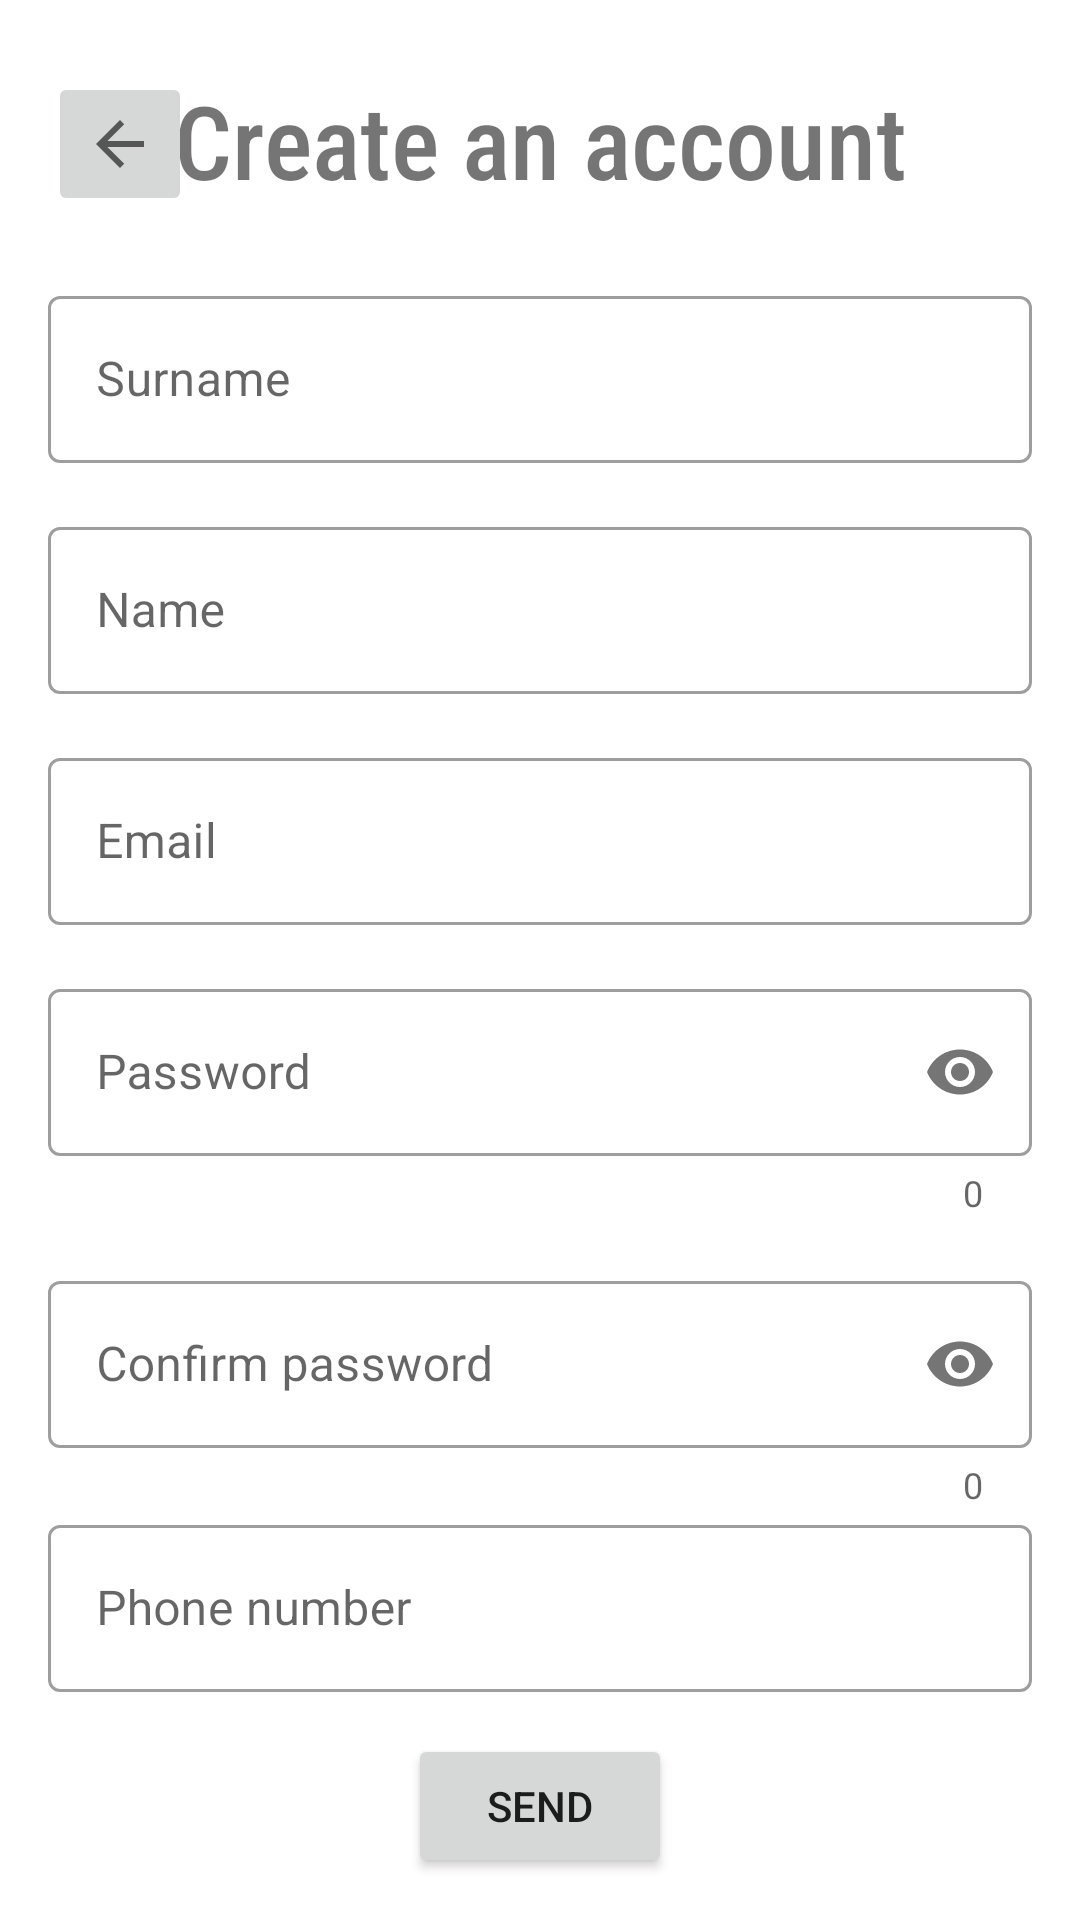

Screen size 1080w x 1920h. Icon name, then its center in pixels as [x,y]:
Return: [126,144]
